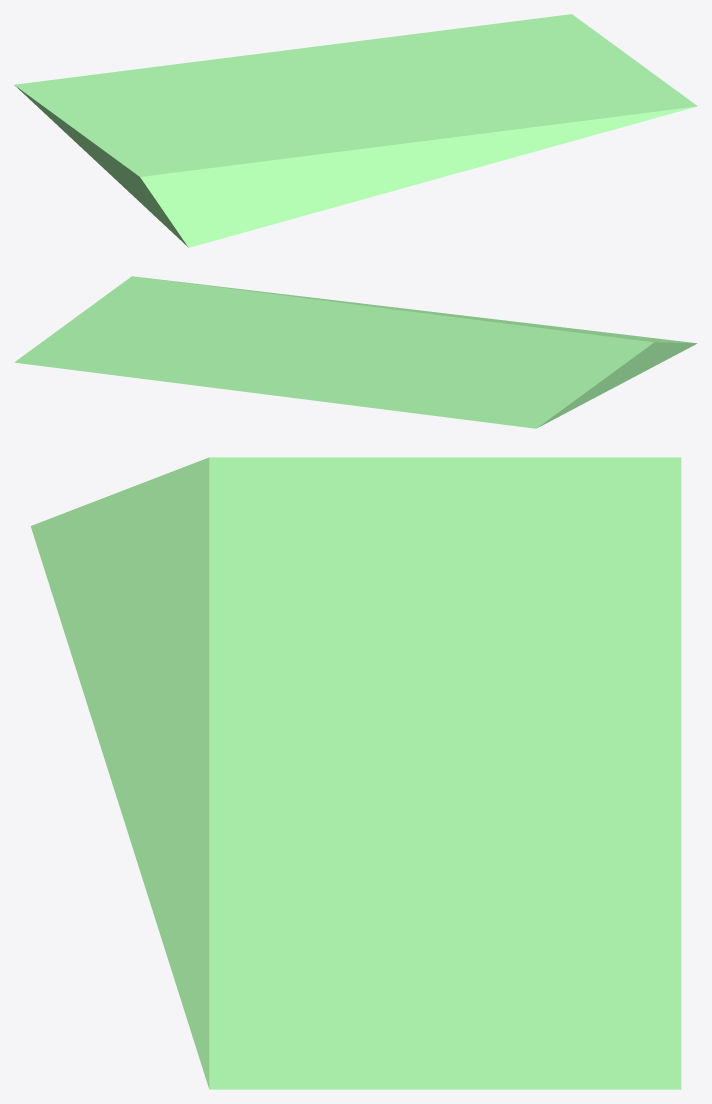
File: UMIRobot_UMIRobot_link_2_convex_coll_31.dae
3 renders of one model, top to bottom at view 1: azimuth 30°, elevation 25°; view 2: azimuth 150°, elevation 25°; view 3: azimuth 270°, elevation 25°, orthographic. The views are drawn at different scales.
Parts seen in each view (by area): view 1: node; view 2: node; view 3: node.
Boxes of the visible parts, box(x1,y1,x2,y2) form: node: box(14, 14, 697, 247); node: box(14, 276, 697, 428); node: box(30, 457, 681, 1089).
Bounding box in the file's own units: 0.0537 × 0.00601 × 0.0289.
